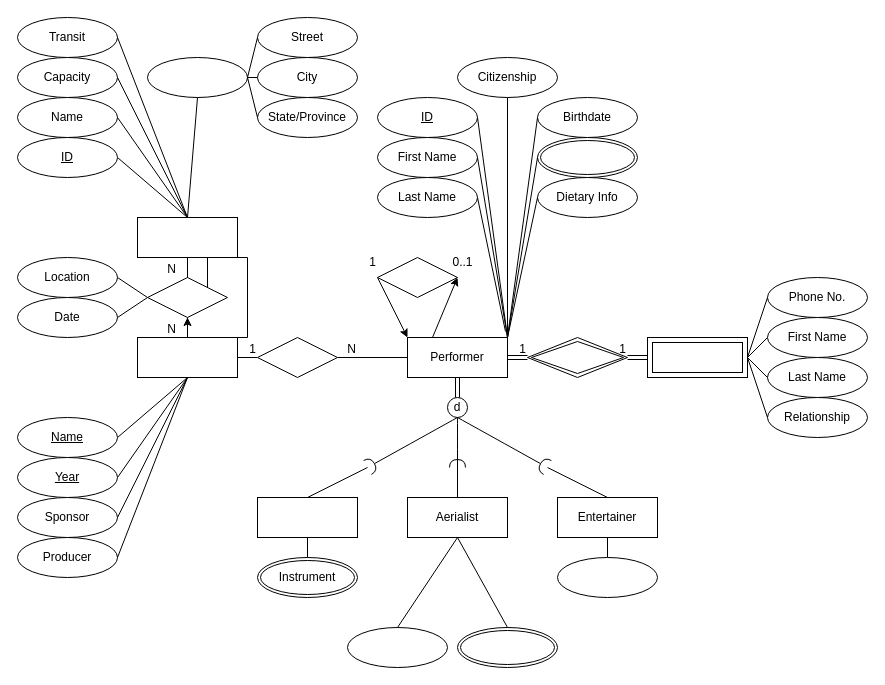
This 885x685 diagram has some shape labels left out. Each missing label, with the centre of its shape:
"Act" goes at point (607, 577).
"Address" goes at point (197, 77).
"Emergency Contact" goes at point (697, 357).
"Equipment" goes at point (507, 647).
"Medications" goes at point (587, 157).
"Musician" goes at point (307, 517).
"Performs" goes at point (297, 357).
"Production" goes at point (187, 357).
"Provides" goes at point (577, 357).
"Schedules" goes at point (187, 297).
"Sport" goes at point (397, 647).
"Understudies" goes at point (417, 277).
"Venue" goes at point (187, 237).
